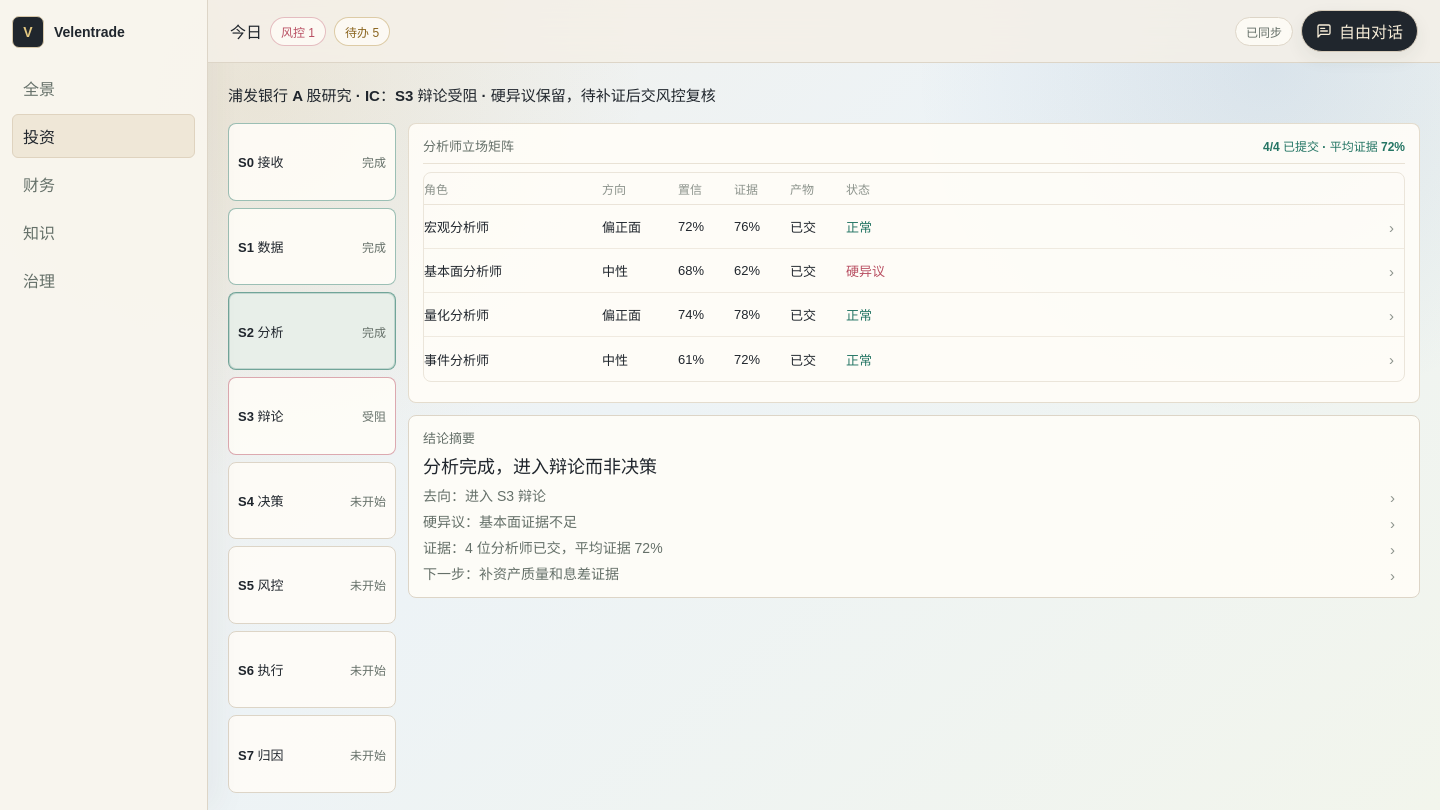
Test case: WI-004 workbench interactions › switches the opened S2 analyst detail into focus mode instead of squeezing the matrix
Click the button "基本面分析师 中性 68% 62% 已交 硬异议".
click(463, 272)  # box [424,249,1404,293]
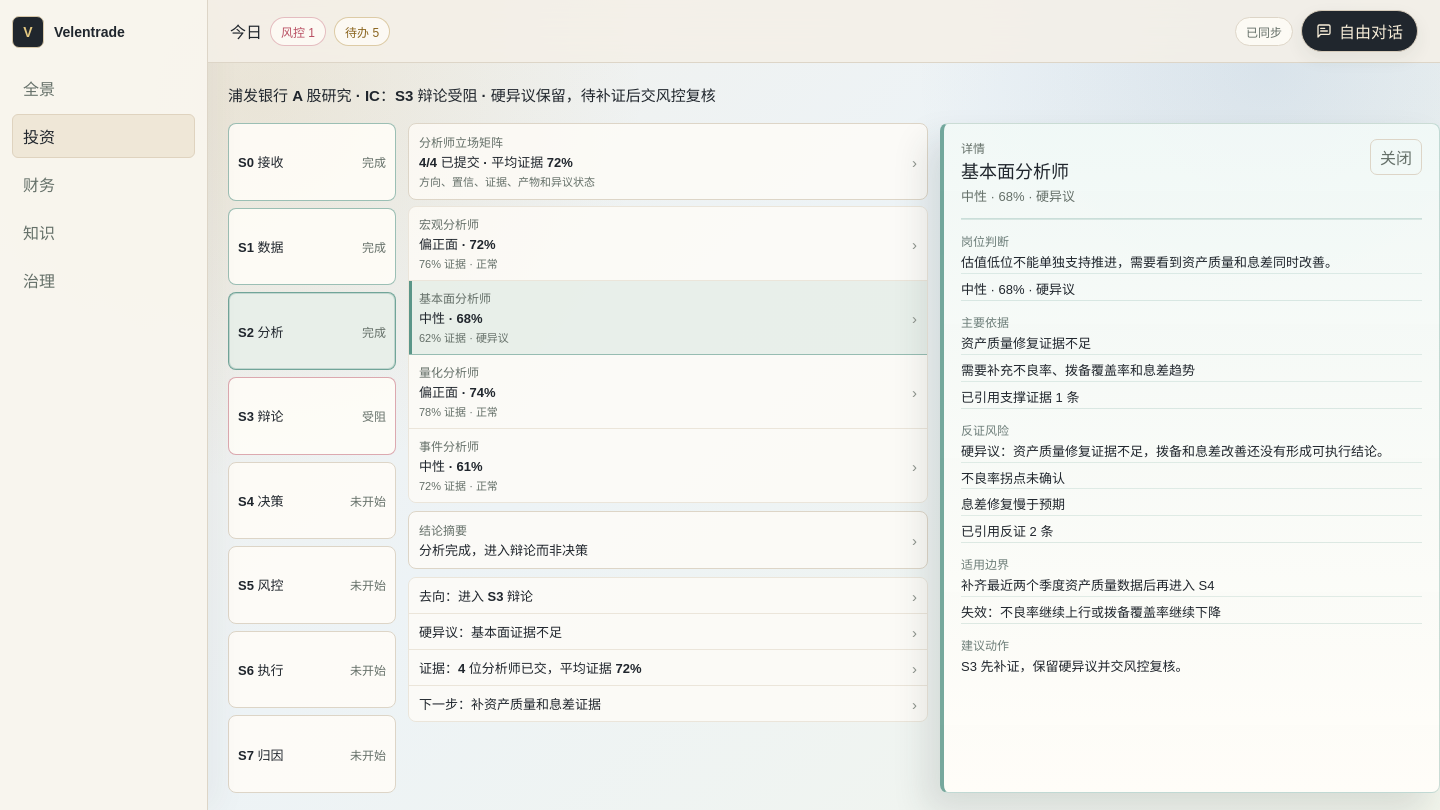
Check: the element with class "drawer-open" is shown
Check: the element with class "summary-focus-list" is shown, box [408,123,928,722]
Check: the element with class "stage-summary-grid" is gone
